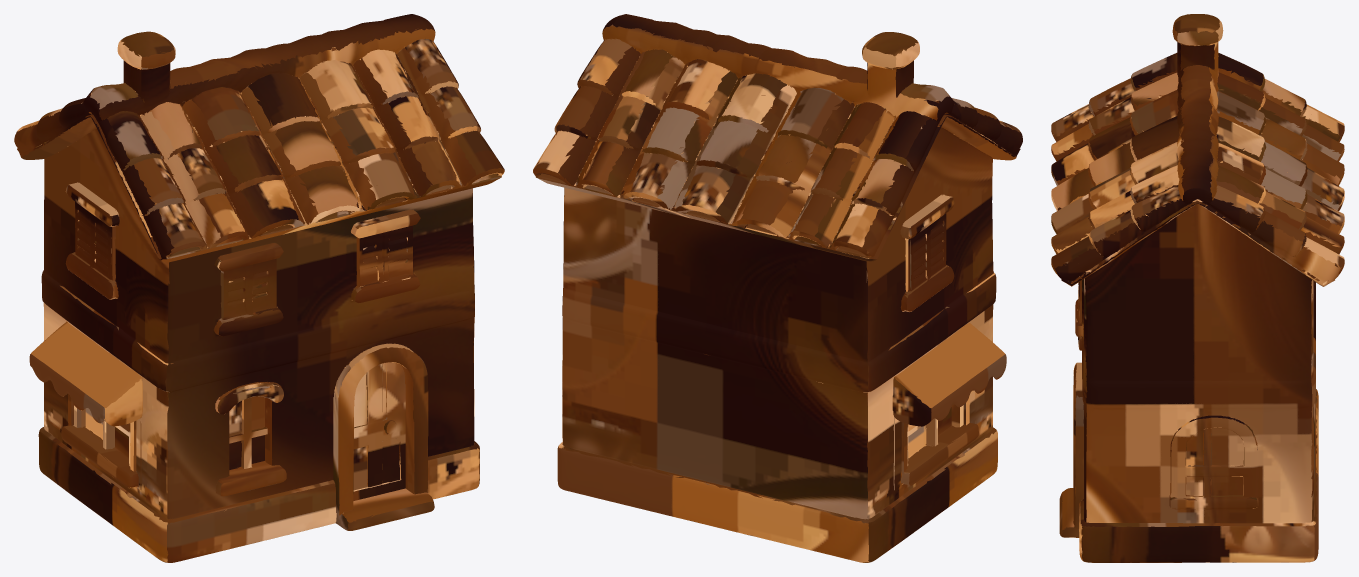
Rendered from Casa3.fbx.
The picture shows the model from 3 angles, left to right: view 1: azimuth 30°, elevation 25°; view 2: azimuth 150°, elevation 25°; view 3: azimuth 270°, elevation 25°; orthographic projection. The views are drawn at different scales.
Visible parts, largest first — view 1: model.002; view 2: model.002; view 3: model.002.
Boxes of the visible parts, left/top/right/bottom form: model.002: left=14, top=14, right=504, bottom=562; model.002: left=533, top=14, right=1022, bottom=562; model.002: left=1051, top=14, right=1344, bottom=562.
Size of the model in its own units: 154 by 190 by 119.
